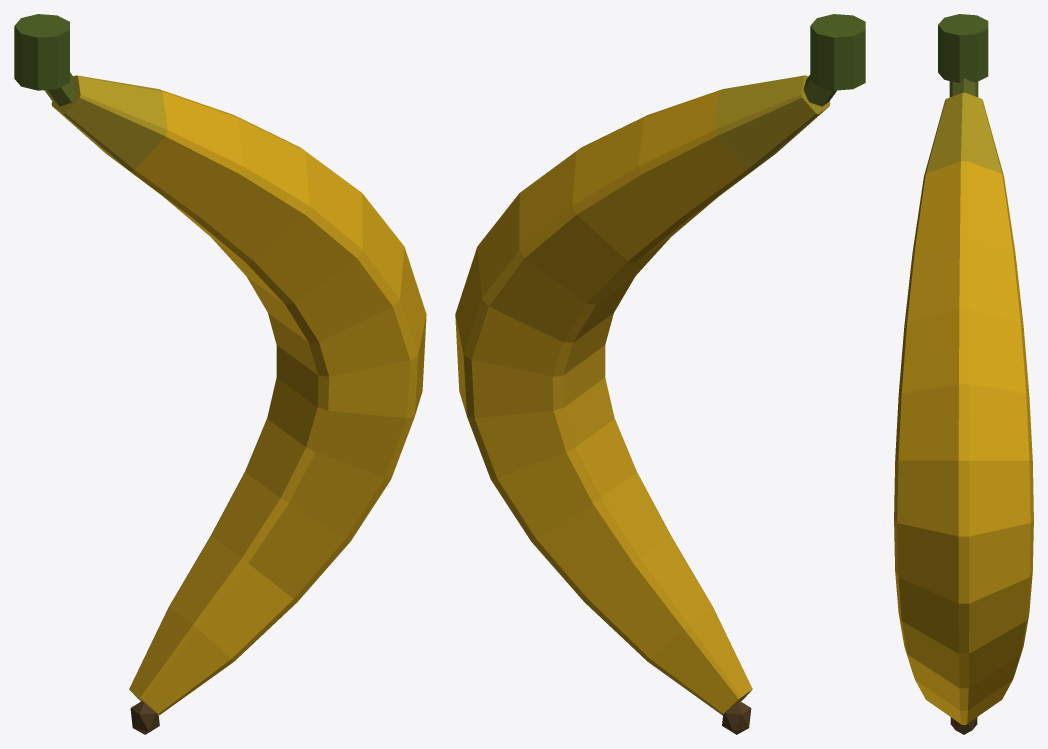
File: looseBanana.glb
3 renders of one model, left to right at view 1: azimuth 30°, elevation 25°; view 2: azimuth 150°, elevation 25°; view 3: azimuth 270°, elevation 25°, orthographic. The views are drawn at different scales.
Parts seen in each view (by area): view 1: BananaMesh.001; view 2: BananaMesh.001; view 3: BananaMesh.001.
Part boxes in pixels (left/top/right/bottom): BananaMesh.001: left=14, top=14, right=426, bottom=734; BananaMesh.001: left=455, top=14, right=865, bottom=734; BananaMesh.001: left=894, top=14, right=1033, bottom=734.
Size of the model in its own units: 0.3764 by 0.652 by 0.1244.
